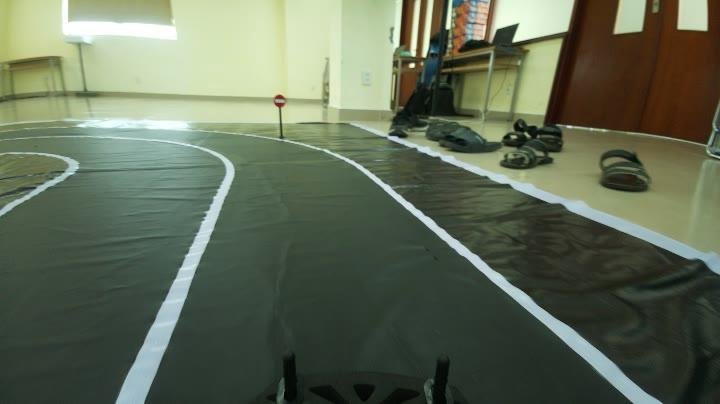no_entry: (268, 91, 286, 111)
